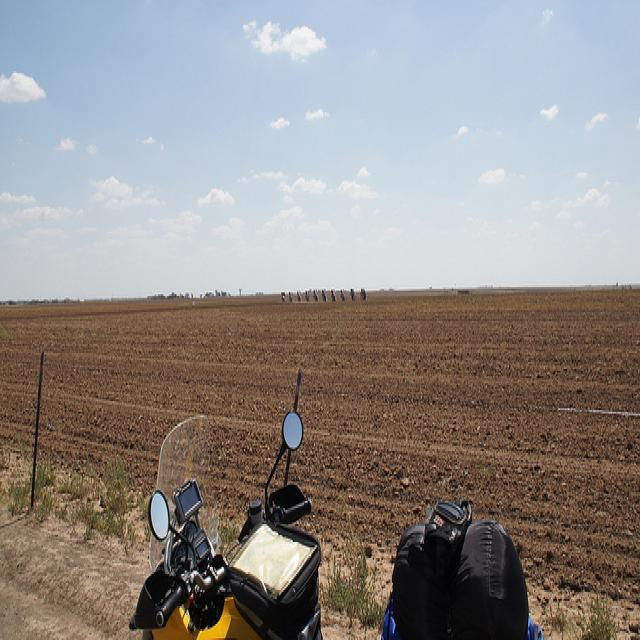motor: (127, 410, 544, 640)
